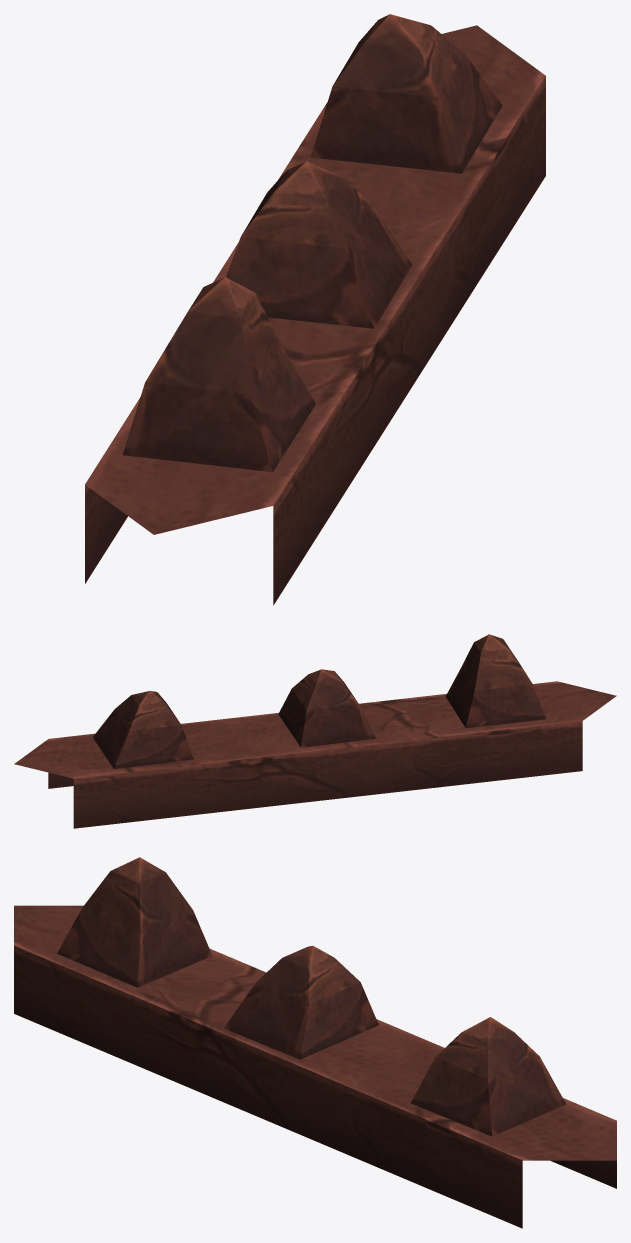
Rendered from lava_cap_diagonal_01.fbx.
The picture shows the model from 3 angles, top to bottom: view 1: azimuth 30°, elevation 25°; view 2: azimuth 150°, elevation 25°; view 3: azimuth 270°, elevation 25°; orthographic projection. The views are drawn at different scales.
Parts seen in each view (by area): view 1: obj1.011; view 2: obj1.011; view 3: obj1.011.
Boxes of the visible parts, x1=… form: obj1.011: x1=85, y1=14, x2=545, y2=605; obj1.011: x1=14, y1=634, x2=616, y2=828; obj1.011: x1=14, y1=857, x2=616, y2=1228.
Bounding box in the file's own units: 4 × 1.25 × 4.
